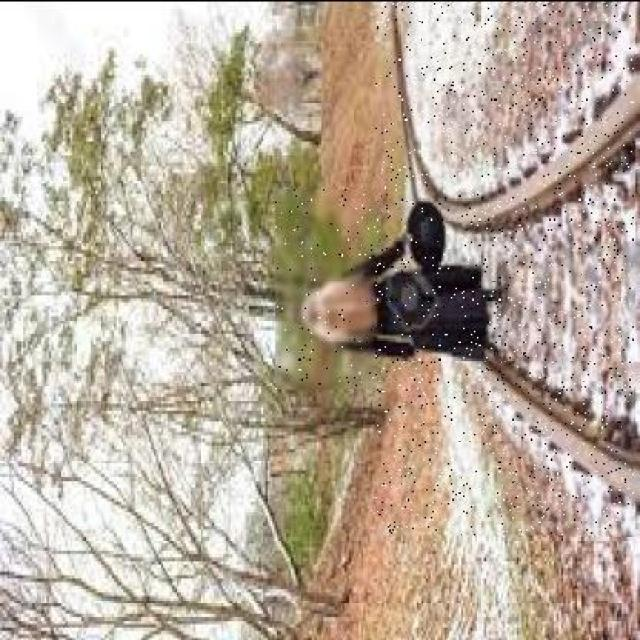danger: (276, 188, 523, 387)
rail: (376, 2, 634, 533)
